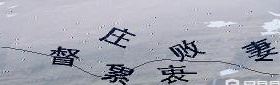chinese: (44, 38, 76, 67), (244, 38, 279, 64), (98, 23, 134, 48), (154, 60, 189, 85), (171, 40, 202, 61), (103, 65, 130, 85)
